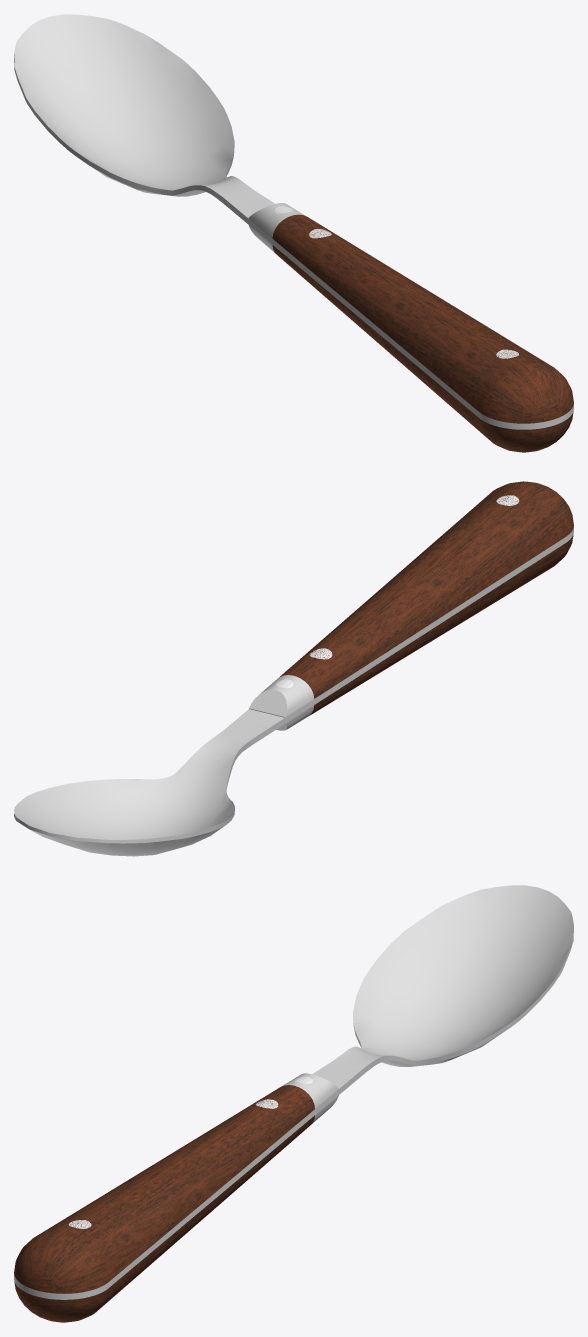
Rendered from round_soup_spoon_original.dae.
The picture shows the model from 3 angles, top to bottom: view 1: azimuth 30°, elevation 25°; view 2: azimuth 150°, elevation 25°; view 3: azimuth 330°, elevation 25°; orthographic projection.
Parts seen in each view (by area): view 1: SketchUp, small_handle (×3); view 2: small_handle (×3), SketchUp; view 3: SketchUp, small_handle (×3).
Boxes of the visible parts, x1,y1,x2,y2 form: SketchUp: (14, 14, 573, 429); small_handle (×3): (248, 203, 573, 452); small_handle (×3): (249, 481, 573, 717); SketchUp: (14, 526, 573, 856); SketchUp: (14, 885, 573, 1299); small_handle (×3): (14, 1073, 338, 1322).
Size of the model in its own units: 58.7 by 314 by 29.03.
4 materials, 1 textured.
